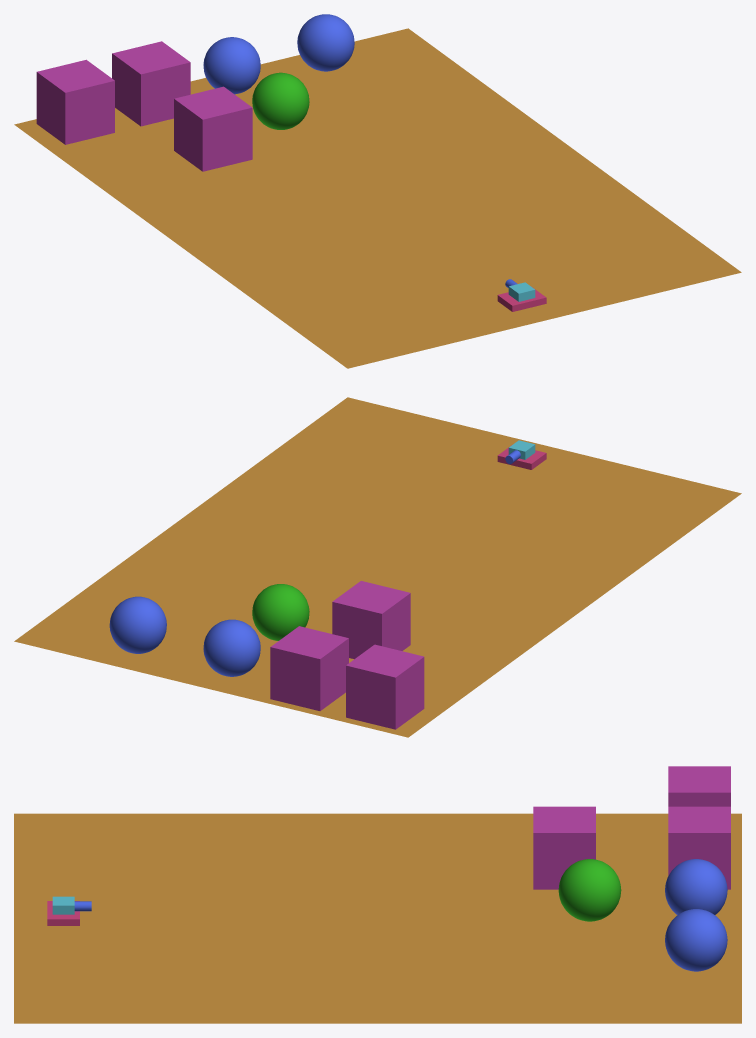
The model's file is barbette.glb.
3 views of the same model, one above another, from view 1: azimuth 30°, elevation 25°; view 2: azimuth 150°, elevation 25°; view 3: azimuth 270°, elevation 25° (orthographic). The views are drawn at different scales.
Visible parts, largest first — view 1: Plane, Cube.003, Cube.004, Cube.002, Sphere.001, Sphere.002, Sphere; view 2: Plane, Cube.003, Cube.002, Cube.004, Sphere, Sphere.002, Sphere.001; view 3: Plane, Cube.004, Cube.002, Sphere.001, Sphere.002, Sphere, Cube.003, Cube, Cube.001.
Part boxes in pixels (x1,y1,x2,y2): Plane: [14, 28, 741, 368]; Cube.003: [36, 59, 114, 144]; Cube.004: [174, 86, 252, 171]; Cube.002: [112, 41, 190, 126]; Sphere.001: [252, 72, 309, 129]; Sphere.002: [297, 14, 354, 71]; Sphere: [203, 37, 260, 94]; Plane: [14, 397, 741, 737]; Cube.003: [346, 644, 424, 729]; Cube.002: [270, 626, 348, 710]; Cube.004: [332, 581, 410, 659]; Sphere: [203, 619, 260, 676]; Sphere.002: [109, 596, 166, 653]; Sphere.001: [252, 584, 309, 640]; Plane: [14, 813, 741, 1023]; Cube.004: [533, 806, 595, 889]; Cube.002: [668, 806, 730, 889]; Sphere.001: [558, 859, 621, 921]; Sphere.002: [665, 909, 727, 971]; Sphere: [665, 859, 727, 914]; Cube.003: [668, 766, 730, 806]; Cube: [47, 901, 79, 925]; Cube.001: [52, 896, 74, 914].
Bounding box in the file's own units: 15.85 × 2 × 23.22.
